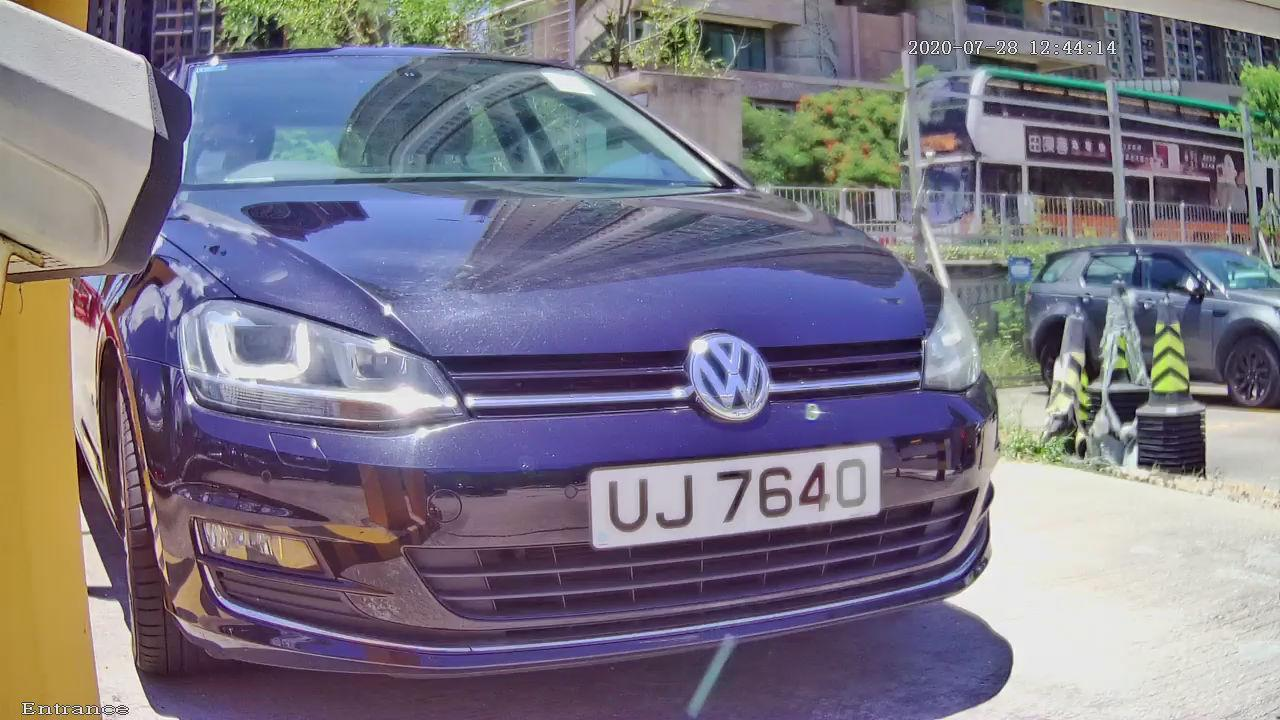privatecar: (29, 10, 1115, 711)
